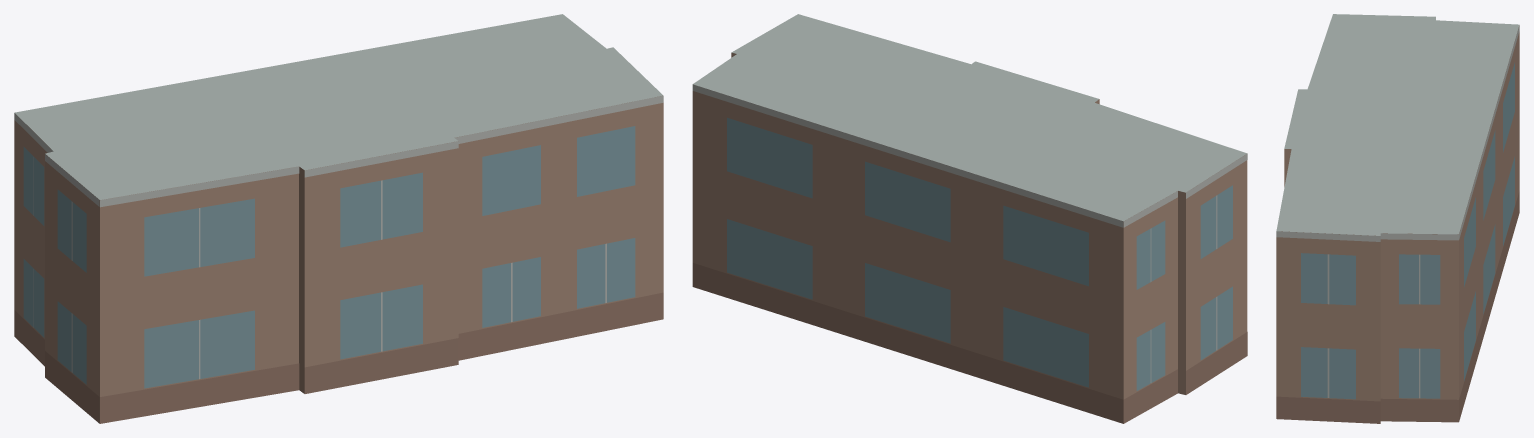
The model's file is survey-upis-32630370.glb.
The picture shows the model from 3 angles, left to right: view 1: azimuth 30°, elevation 25°; view 2: azimuth 150°, elevation 25°; view 3: azimuth 270°, elevation 25°; orthographic projection. The views are drawn at different scales.
Visible parts, largest first — view 1: survey-upis-32630370.tmp; view 2: survey-upis-32630370.tmp; view 3: survey-upis-32630370.tmp.
Part boxes in pixels (left/top/right/bottom): survey-upis-32630370.tmp: left=14, top=14, right=663, bottom=423; survey-upis-32630370.tmp: left=692, top=14, right=1247, bottom=423; survey-upis-32630370.tmp: left=1276, top=14, right=1519, bottom=423.
Size of the model in its own units: 19.27 by 7.6 by 8.93.
